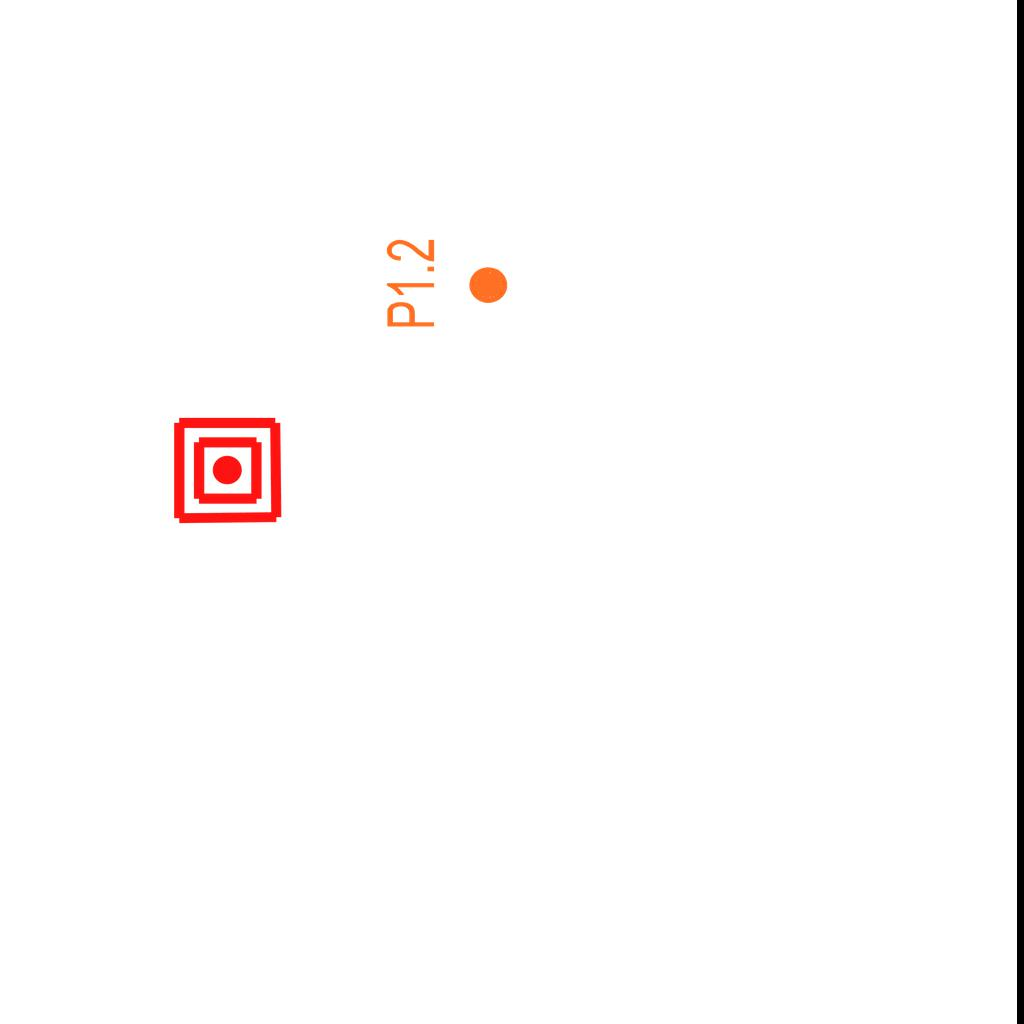Downlight_LED_Einbauleuchten_Flur: (383, 237, 511, 330)
NAM-Nichtautomatischer_Melder: (171, 414, 284, 527)
